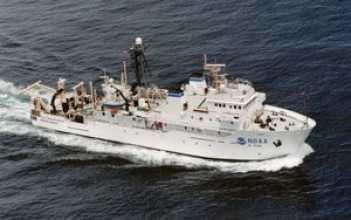otherboat: (33, 46, 319, 158)
